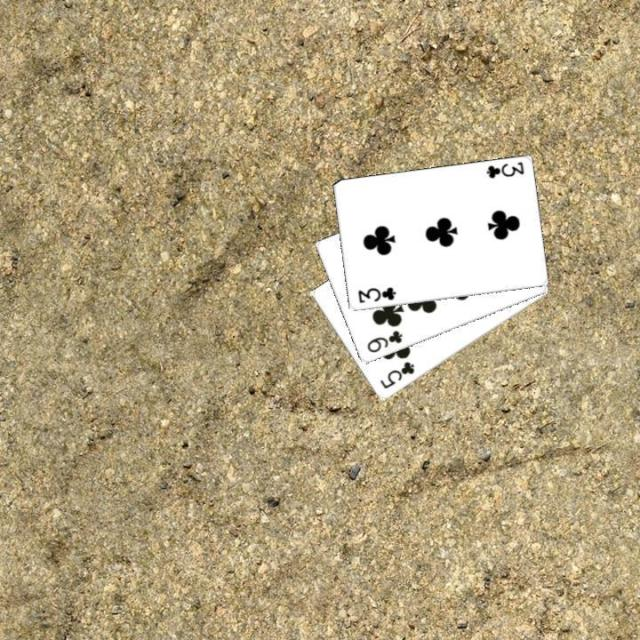3C: (354, 283, 397, 305), (482, 158, 525, 180)
5C: (376, 357, 416, 391)
9C: (362, 326, 404, 355)
